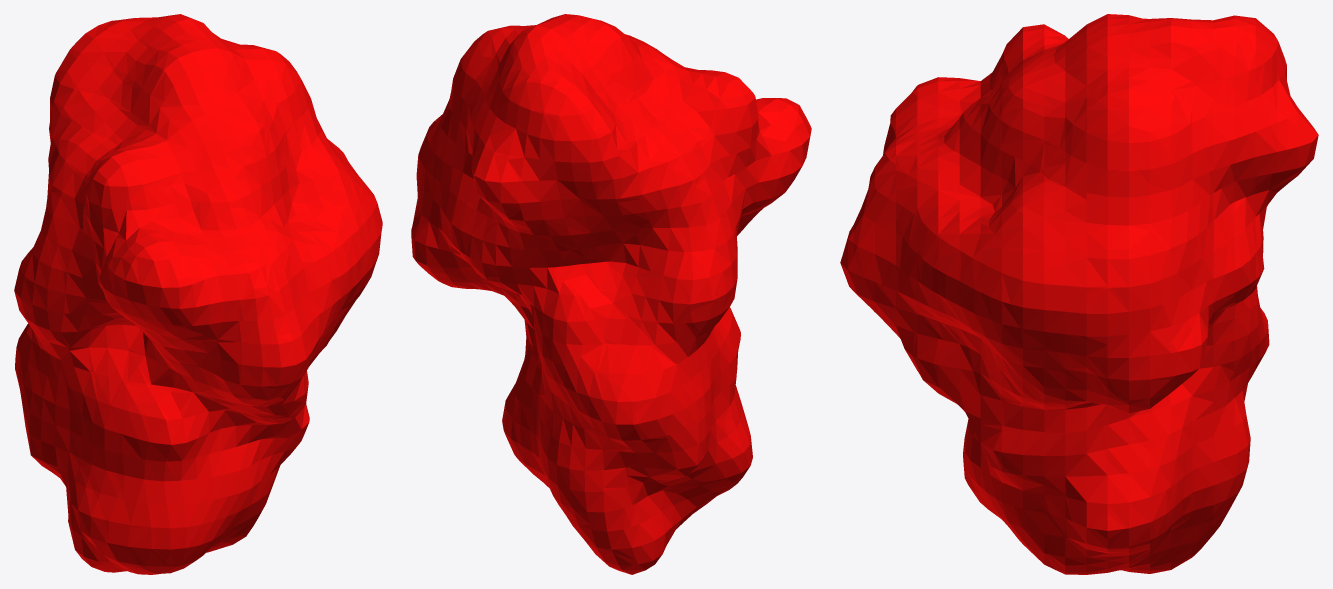
The model's file is xerD_coarse.dae.
3 views of the same model, side by side, from view 1: azimuth 30°, elevation 25°; view 2: azimuth 150°, elevation 25°; view 3: azimuth 270°, elevation 25° (orthographic). The views are drawn at different scales.
Visible parts, largest first — view 1: xerD; view 2: xerD; view 3: xerD.
Boxes of the visible parts, x1,y1,x2,y2 form: xerD: (14,14,382,574); xerD: (411,14,811,574); xerD: (840,14,1318,574).
Bounding box in the file's own units: 45.02 × 70.97 × 52.01.
